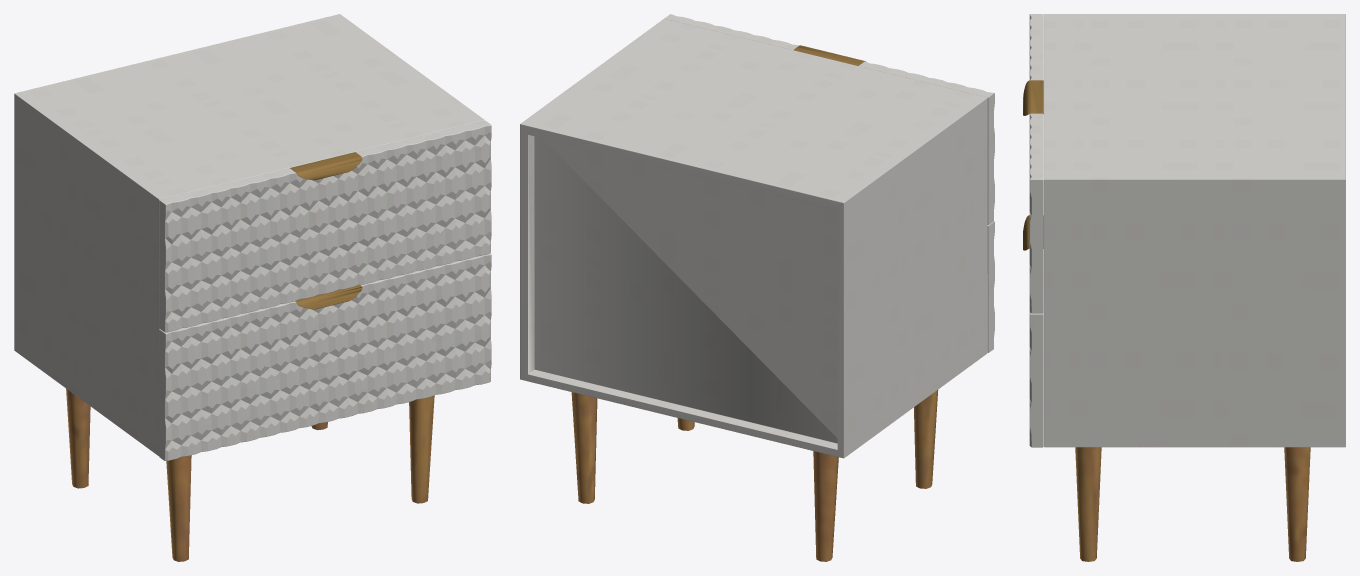
The model's file is B07HSH4ZR2.glb.
3 renders of one model, left to right at view 1: azimuth 30°, elevation 25°; view 2: azimuth 150°, elevation 25°; view 3: azimuth 270°, elevation 25°, orthographic. The views are drawn at different scales.
Visible parts, largest first — view 1: RootNode; view 2: RootNode; view 3: RootNode.
Part boxes in pixels (<box>): RootNode: <box>14,14,491,561</box>; RootNode: <box>520,14,994,561</box>; RootNode: <box>1023,14,1345,561</box>.
Bounding box in the file's own units: 0.5027 × 0.5679 × 0.4135.
1 material, 1 textured.
